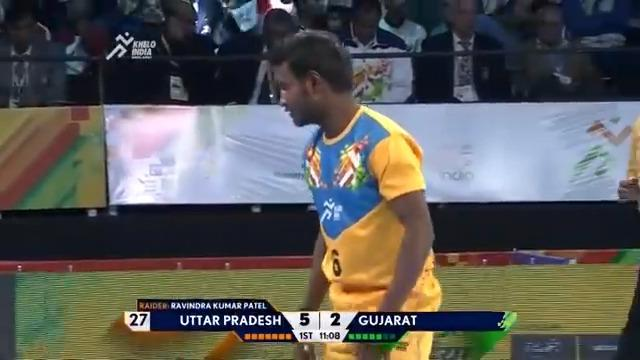Raider: (263, 28, 445, 357)
